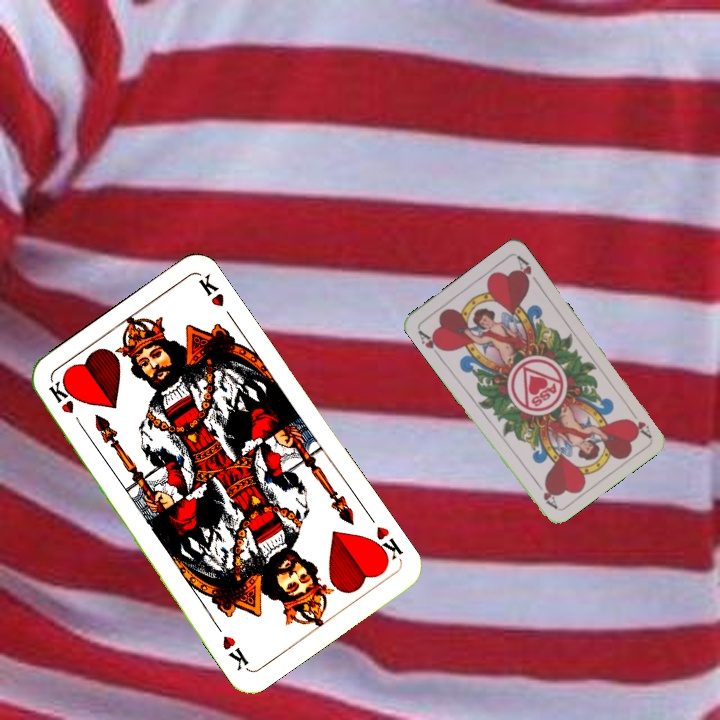HA: (414, 325, 448, 360), (624, 404, 654, 440)
HK: (44, 377, 86, 431), (366, 522, 406, 568)
